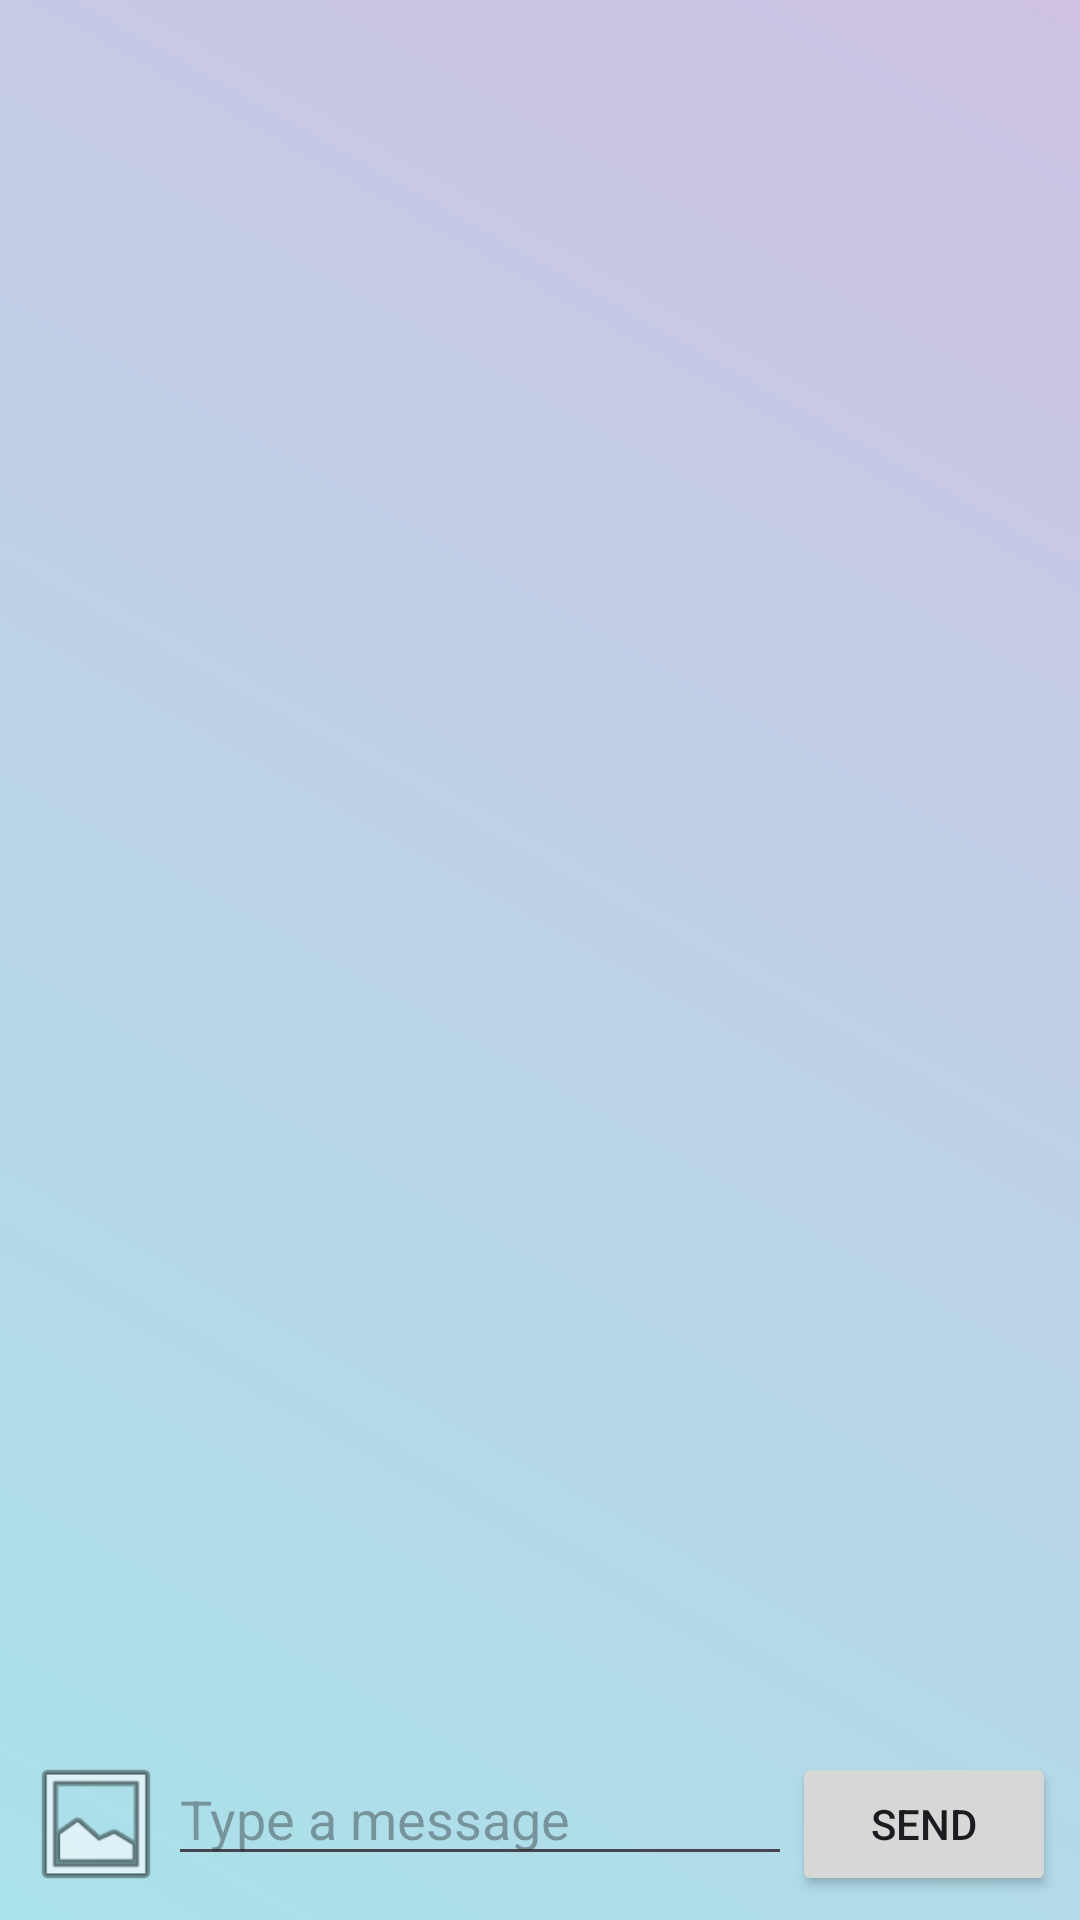

Named icons in this screenshot (1080w x 1920h) and their bounding boxes, (x1, y1, x2, y2):
Select Image: (42, 1770, 150, 1878)
